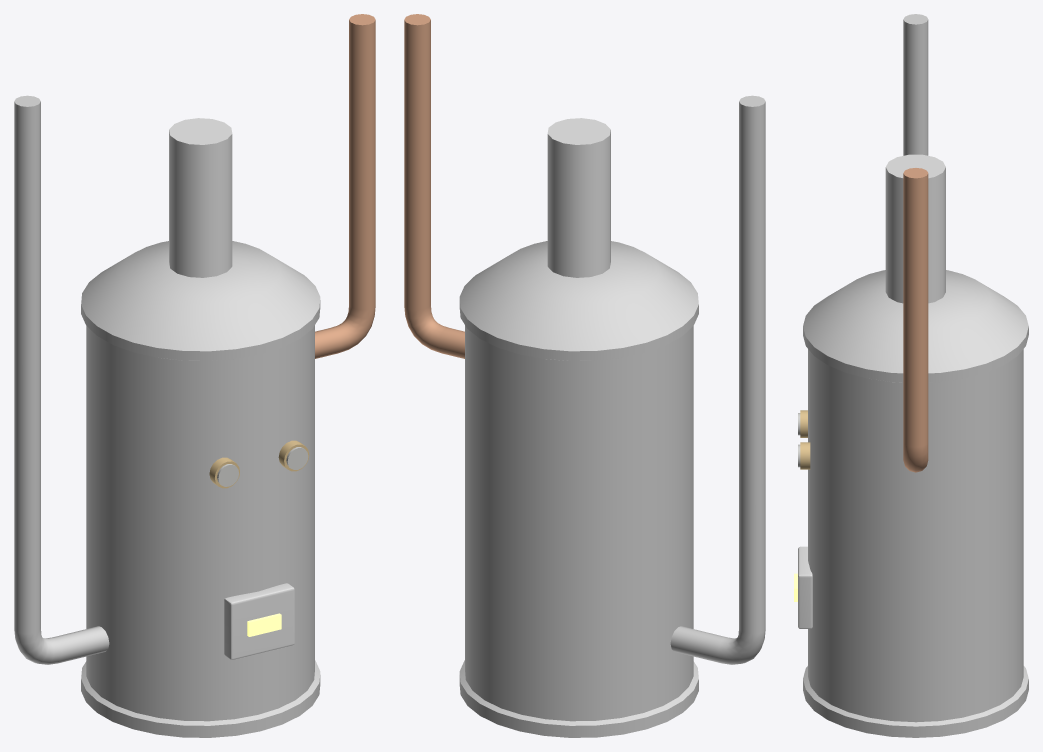
File: SM_Boiler.fbx
3 renders of one model, left to right at view 1: azimuth 30°, elevation 25°; view 2: azimuth 150°, elevation 25°; view 3: azimuth 270°, elevation 25°, orthographic. The views are drawn at different scales.
Visible parts, largest first — view 1: SM_Boiler_1; view 2: SM_Boiler_1; view 3: SM_Boiler_1.
Part boxes in pixels (bbox=[...]): SM_Boiler_1: bbox=[14, 14, 375, 737]; SM_Boiler_1: bbox=[404, 14, 765, 737]; SM_Boiler_1: bbox=[794, 14, 1028, 737].
Bounding box in the file's own units: 155 × 260 × 93.5.
